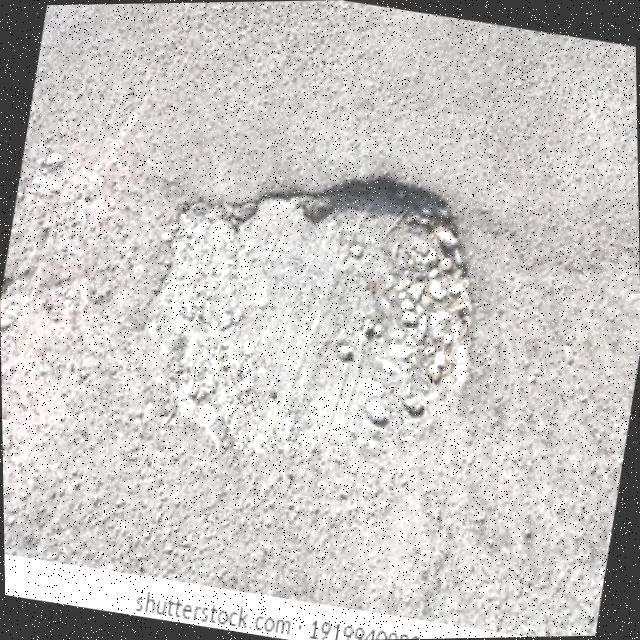Pothole: (147, 178, 470, 450)
